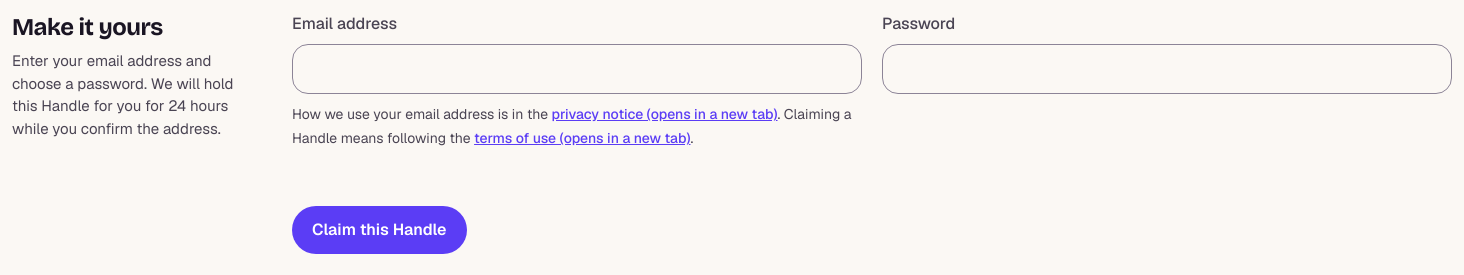
Scenario: the claim form › renders a rejection for taken because it is held
Type "claimant@example.com" into the field labelled "Email address" at (577, 69), box [292, 44, 862, 94]
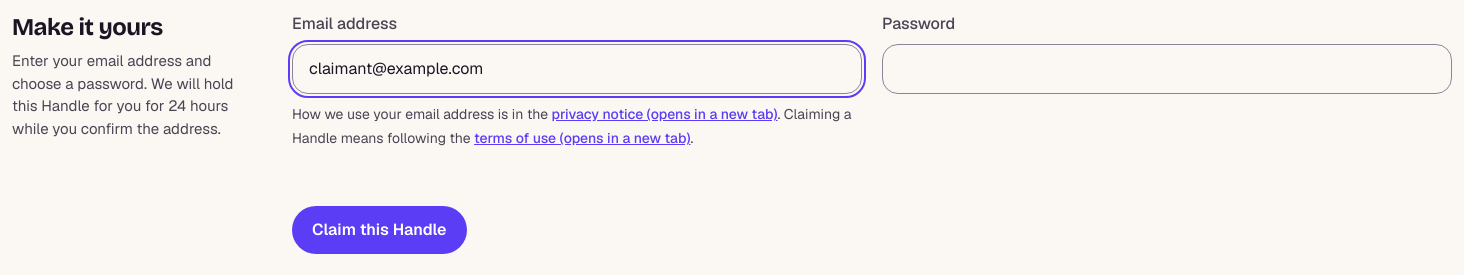
Type "correct horse battery staple" into the password field labelled "Password" at (1167, 69), box [882, 44, 1452, 94]
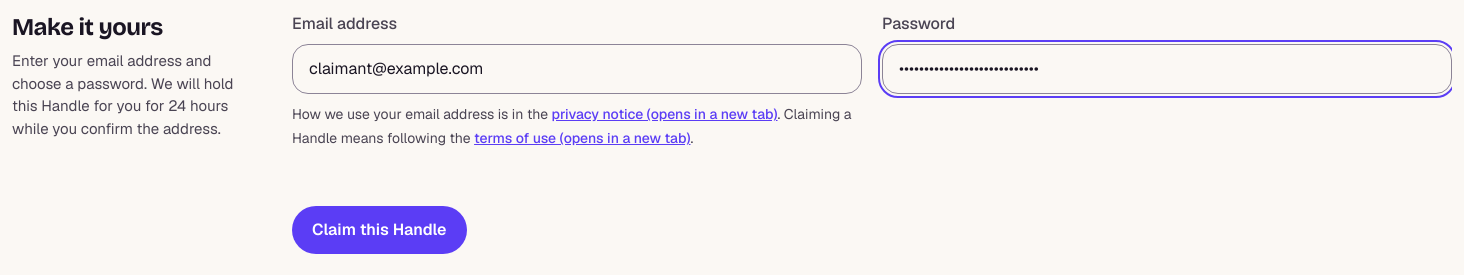
Click the button "Claim this Handle" at (379, 230), box [292, 206, 467, 254]
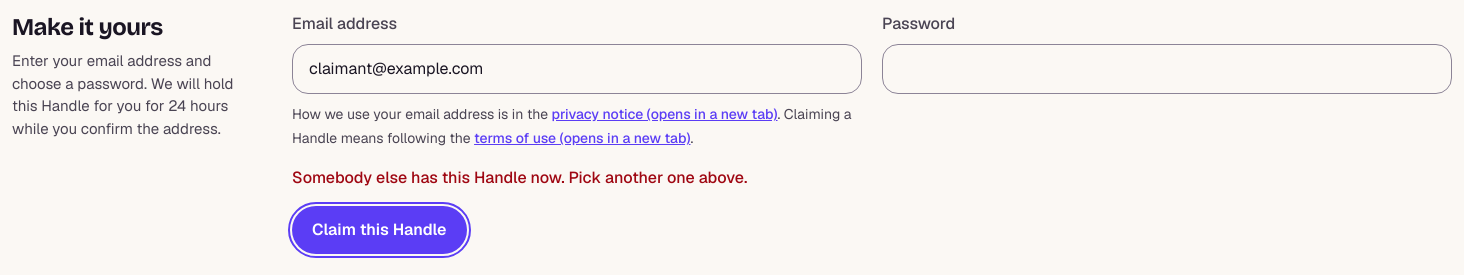
Check: the message reads "Somebody else has this Handle now. Pick another one above.", box [292, 167, 747, 188]
